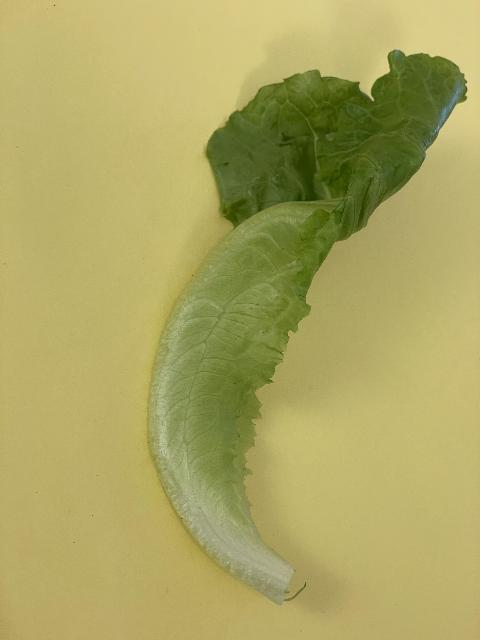lettuce: (143, 50, 469, 604)
